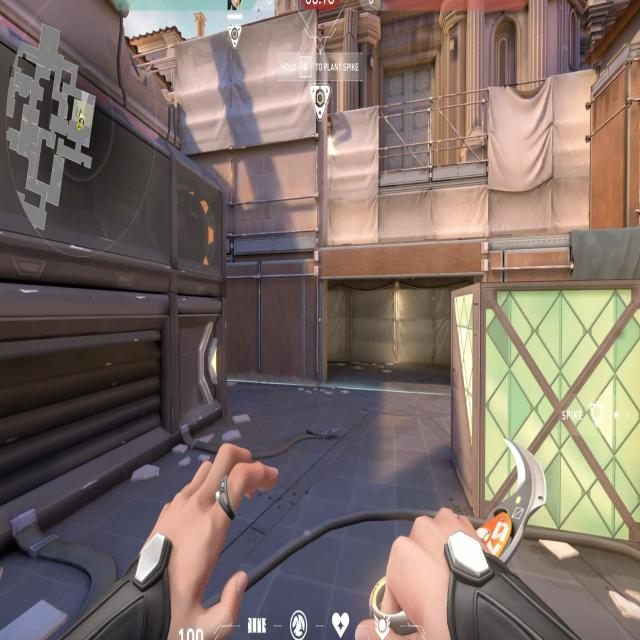A_Heaven_Box: (578, 30, 640, 231)
A_Heaven_Wall: (165, 8, 344, 236)
A_Hell: (311, 234, 487, 404)
A_Site_Box: (437, 262, 640, 561)
